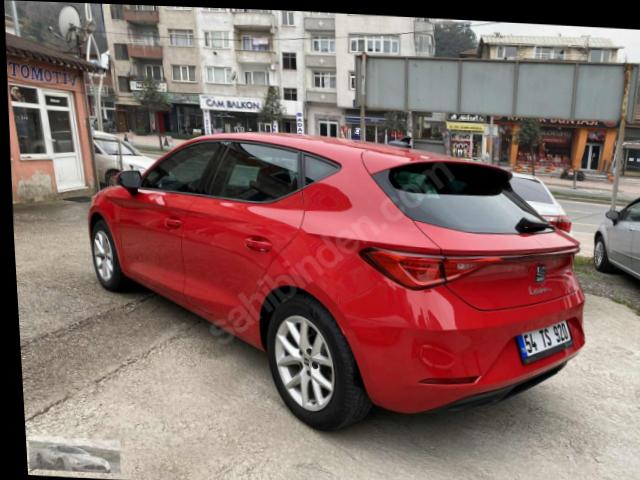plaka: (516, 321, 573, 363)
